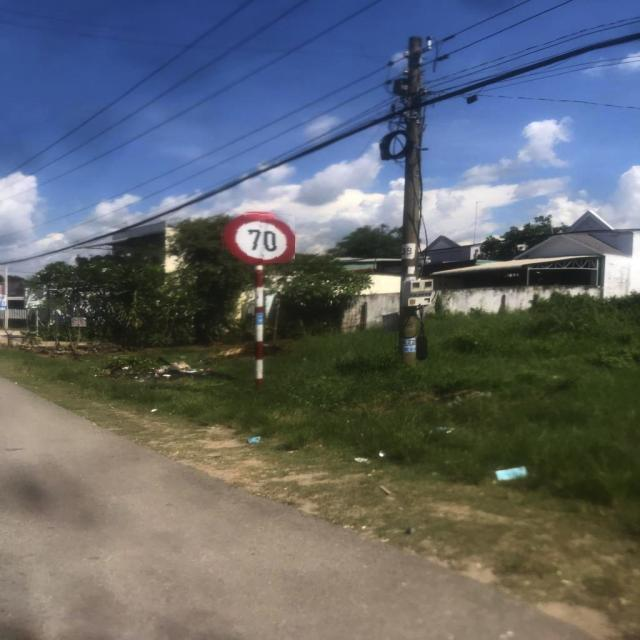127-toc-do-toi-da-70: (223, 212, 296, 264)
